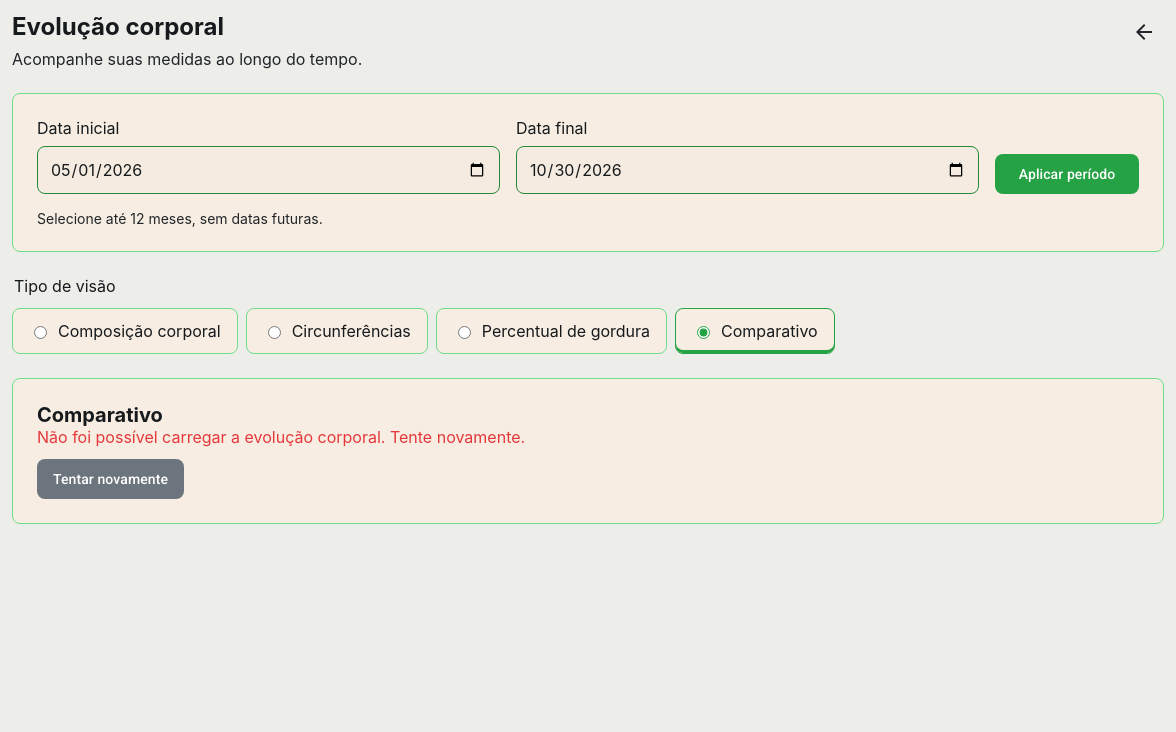
BodyMetricsProgressComponent › handles comparison errors and retries the same period (null)
The width and height of the screenshot is (1176, 732).
Click the button "Tentar novamente" at (110,479), box [37,459,184,499]
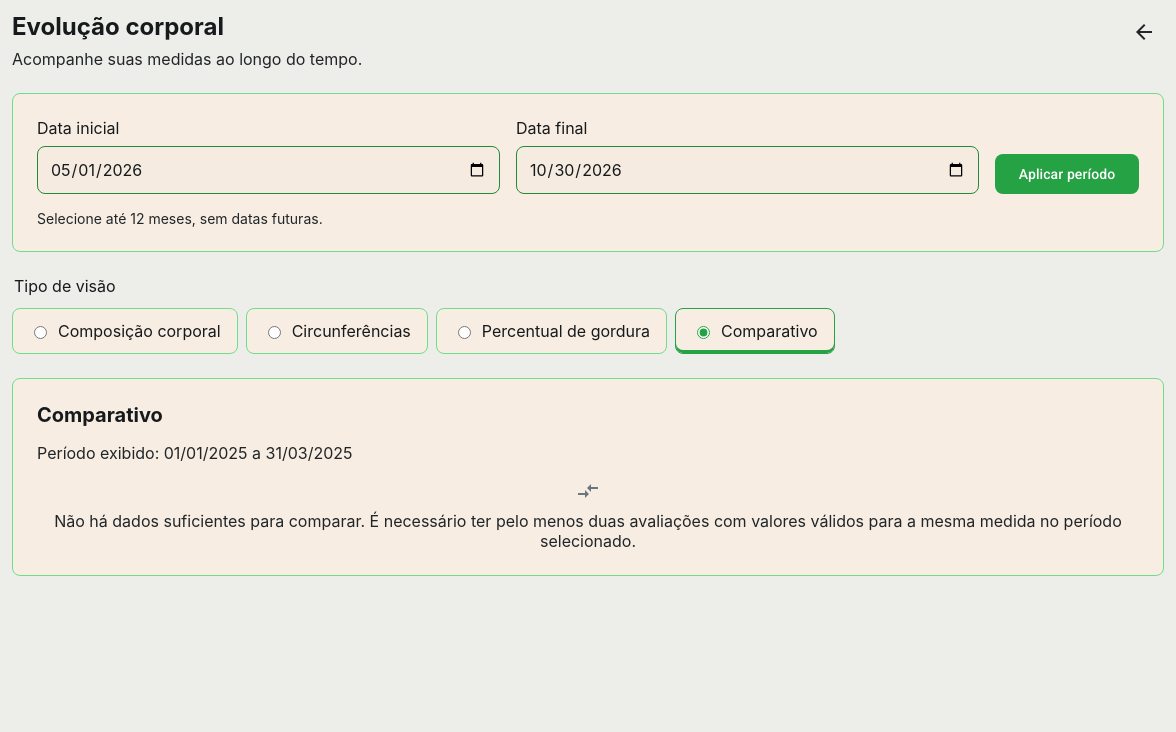
expect the message "Não foi possível carregar a evolução corporal. Tente novamente." is gone: met
